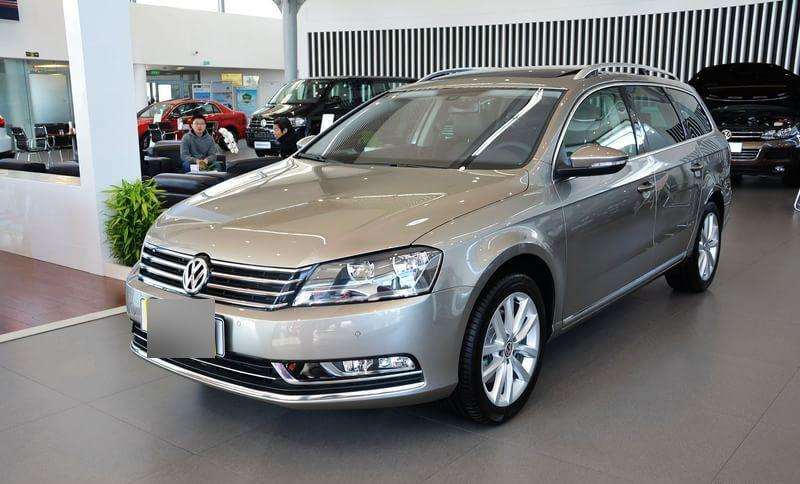Wagon: (124, 62, 736, 427)
